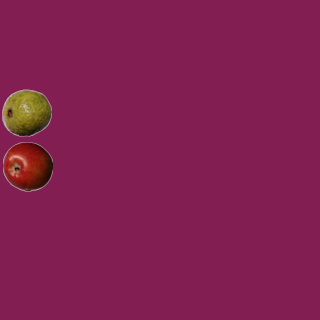Apple Braeburn: (2, 141, 52, 191)
Guava: (1, 87, 51, 137)
